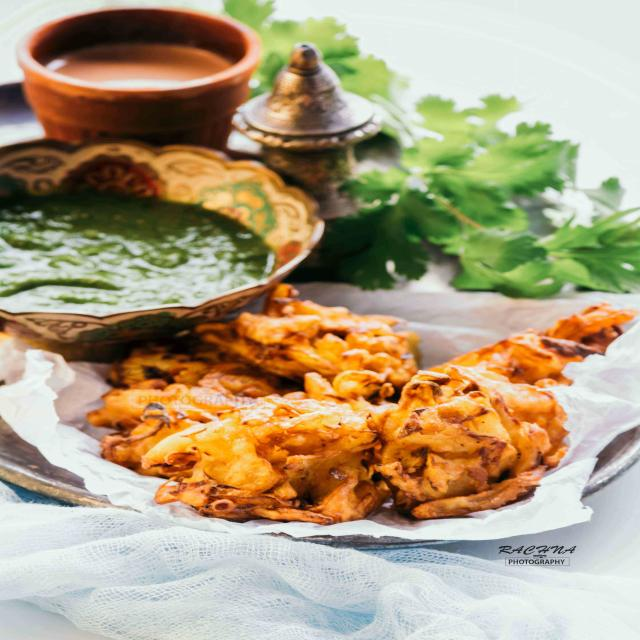BAJI: (92, 282, 633, 533)
